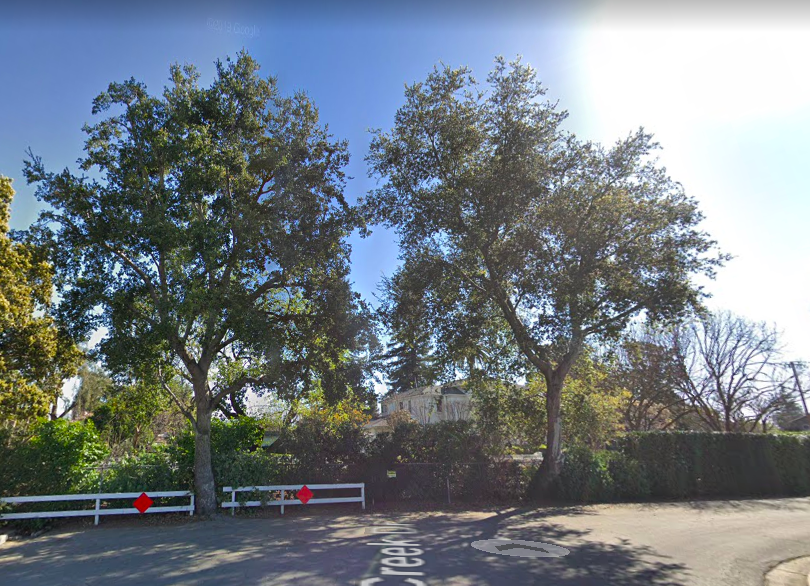tree: (357, 50, 740, 497), (21, 42, 370, 512)
